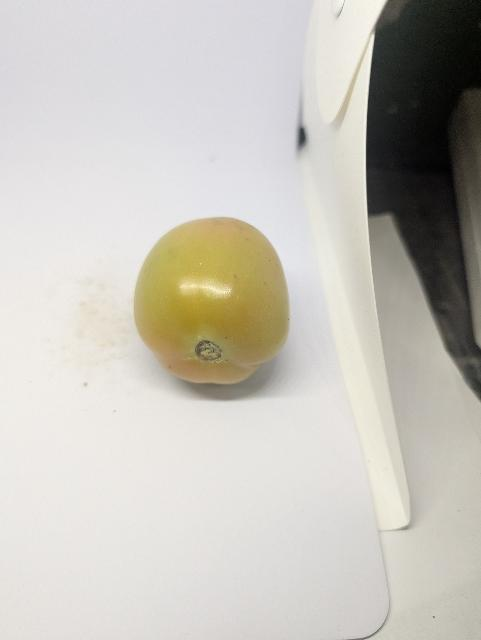breaker: (134, 217, 290, 384)
